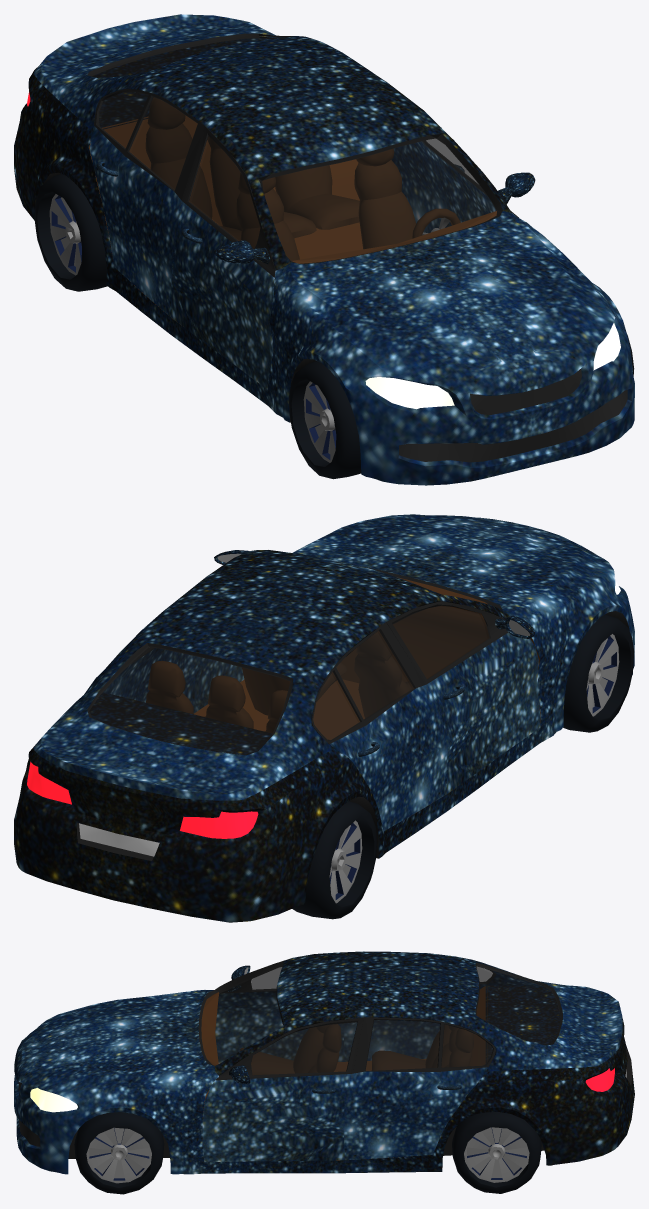
The model's file is myWholeCar3.fbx.
The picture shows the model from 3 angles, top to bottom: view 1: azimuth 30°, elevation 25°; view 2: azimuth 150°, elevation 25°; view 3: azimuth 270°, elevation 25°; orthographic projection. The views are drawn at different scales.
Parts seen in each view (by area): view 1: car frame, Front Door, Back door, BackSeat.001, FrontSeat, NewTire, NewTire.001, Back door Window.003, Front Door Window.003, Rearview Mirror.001, New Steering Wheel; view 2: car frame, Front Door, Back door, NewTire.001, NewTire, Back door Window.003, FrontSeat, Front Door Window.003, BackSeat.001, Rearview Mirror.001; view 3: car frame, Front Door, Back door, NewTire, NewTire.001, Back door Window.003, Front Door Window.003, FrontSeat, BackSeat.001, Rearview Mirror.001.
Part boxes in pixels (x1,y1,x2,y2): car frame: [14, 14, 634, 485]; Front Door: [171, 86, 519, 389]; Back door: [89, 89, 445, 317]; BackSeat.001: [146, 97, 359, 240]; FrontSeat: [236, 149, 415, 260]; NewTire: [288, 334, 634, 479]; NewTire.001: [34, 174, 107, 291]; Back door Window.003: [99, 92, 197, 189]; Front Door Window.003: [190, 135, 486, 248]; Rearview Mirror.001: [214, 172, 535, 264]; New Steering Wheel: [412, 208, 460, 238]; car frame: [14, 514, 634, 922]; Front Door: [176, 576, 540, 793]; Back door: [103, 622, 447, 830]; NewTire.001: [292, 801, 377, 919]; NewTire: [563, 614, 634, 732]; Back door Window.003: [128, 630, 413, 739]; FrontSeat: [242, 631, 413, 718]; Front Door Window.003: [393, 605, 489, 678]; BackSeat.001: [146, 660, 287, 733]; Rearview Mirror.001: [214, 550, 535, 638]; car frame: [14, 951, 634, 1174]; Front Door: [202, 979, 364, 1161]; Back door: [343, 969, 495, 1160]; NewTire: [74, 1112, 164, 1194]; NewTire.001: [452, 1112, 541, 1193]; Back door Window.003: [365, 967, 492, 1070]; Front Door Window.003: [251, 967, 357, 1074]; FrontSeat: [251, 1024, 341, 1075]; BackSeat.001: [372, 1025, 473, 1070]; Rearview Mirror.001: [228, 965, 250, 1083].
Size of the model in its own units: 140 by 96.53 by 322.
